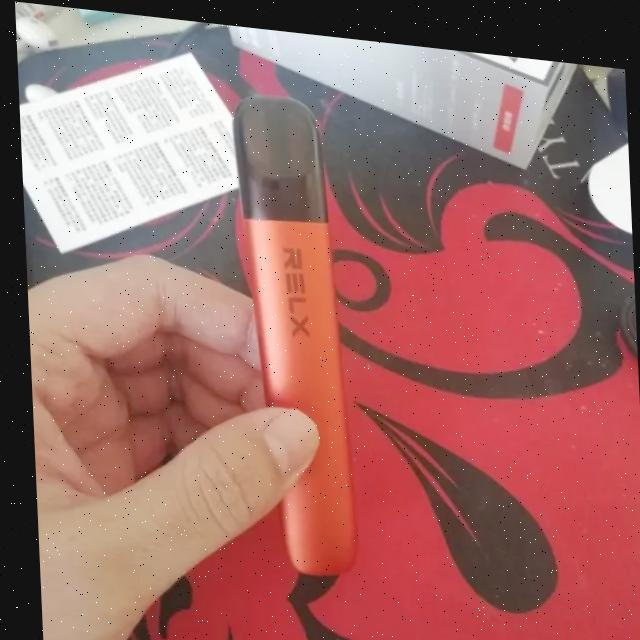vape: (231, 83, 356, 575)
